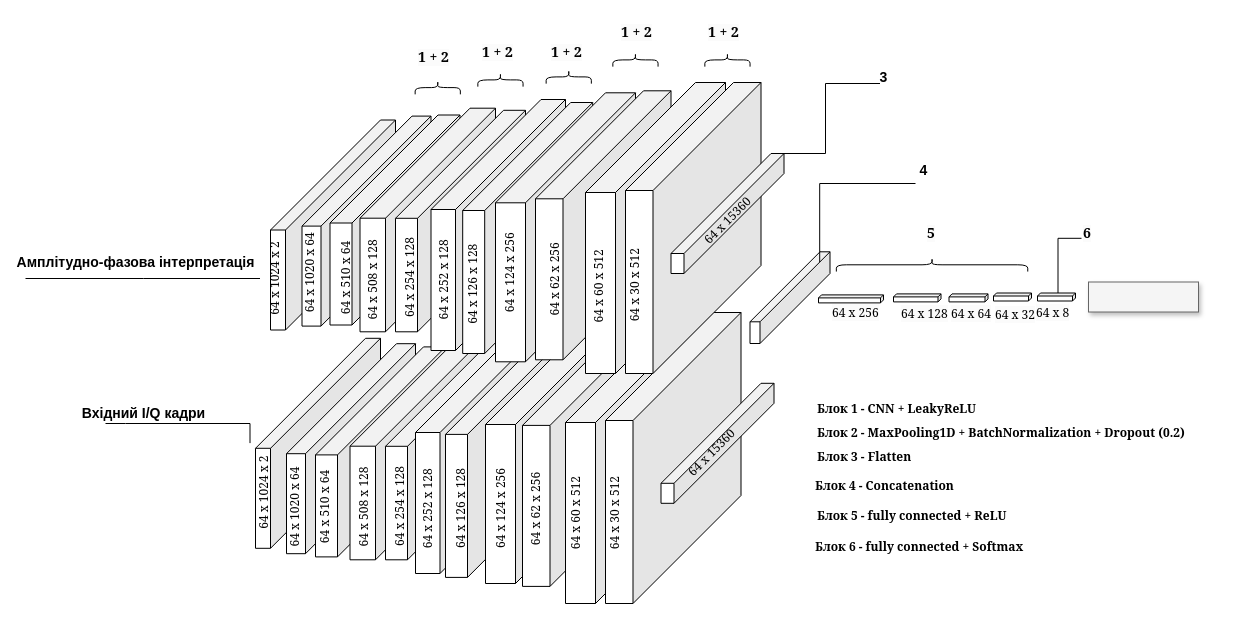
The diagram is 1243 pixels wide and 621 high, and some of its shapes have lost their labels. The shapes that lost their labels are listed below. From the top down, each one's centre as x and y in pixels, then its label:
At point 789,297: "64 x 30720".
At point 1144,298: "Тип модуляції".
